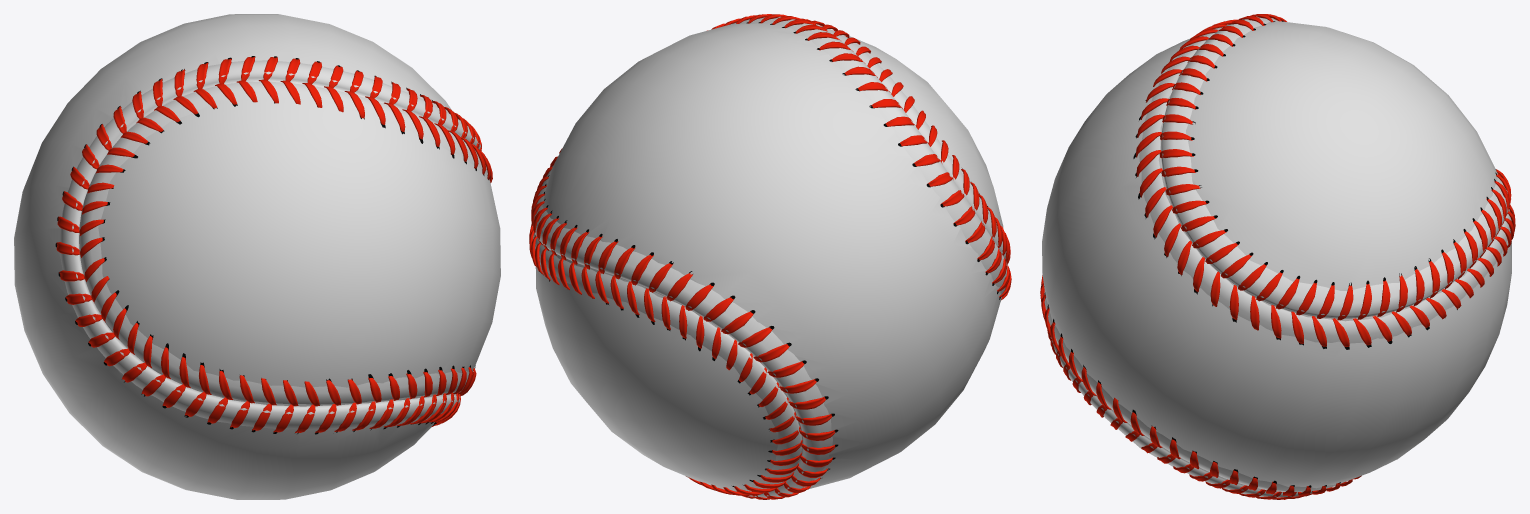
3 renders of one model, left to right at view 1: azimuth 30°, elevation 25°; view 2: azimuth 150°, elevation 25°; view 3: azimuth 270°, elevation 25°, orthographic. The views are drawn at different scales.
Parts seen in each view (by area): view 1: Ball_Whites; view 2: Ball_Whites; view 3: Ball_Whites.
Boxes of the visible parts, x1,y1,x2,y2 form: Ball_Whites: (14,14,500,499); Ball_Whites: (529,14,1011,499); Ball_Whites: (1040,14,1515,499).
Size of the model in its own units: 1.06 by 1.05 by 1.06.
